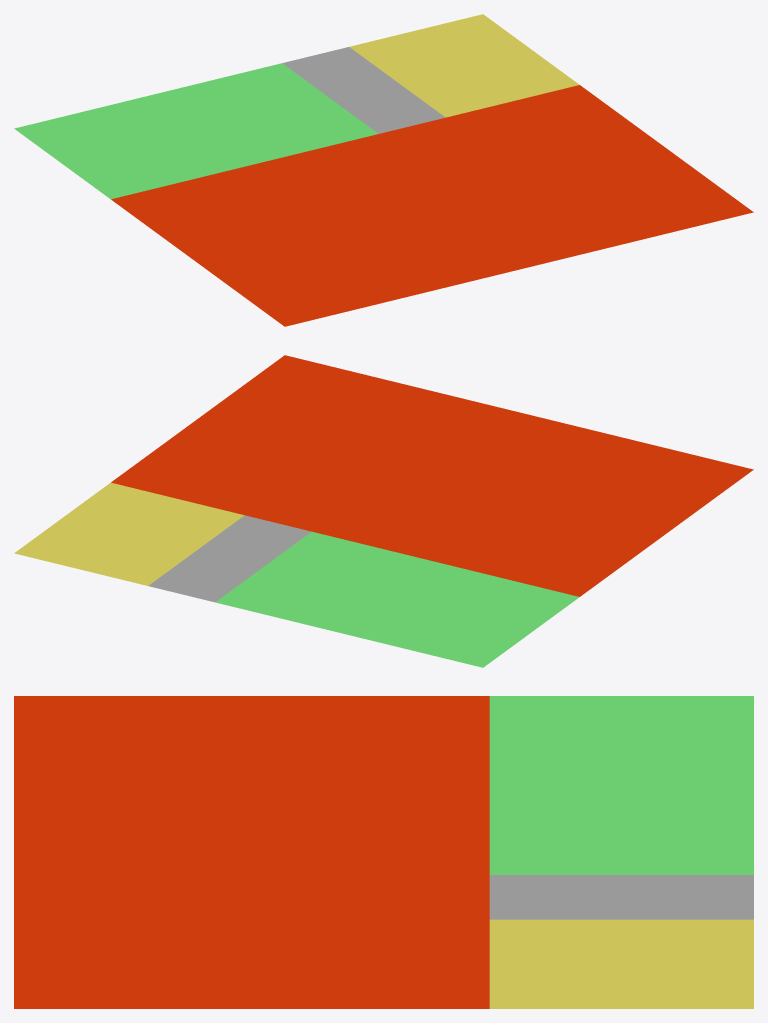
File: Panel.fbx
3 views of the same model, one above another, from view 1: azimuth 30°, elevation 25°; view 2: azimuth 150°, elevation 25°; view 3: azimuth 270°, elevation 25° (orthographic). The views are drawn at different scales.
Visible parts, largest first — view 1: pPlane1; view 2: pPlane1; view 3: pPlane1.
Boxes of the visible parts, x1=… form: pPlane1: x1=14, y1=14, x2=753, y2=326; pPlane1: x1=14, y1=355, x2=753, y2=667; pPlane1: x1=14, y1=696, x2=753, y2=1008.
Size of the model in its own units: 700 by 0 by 700.
